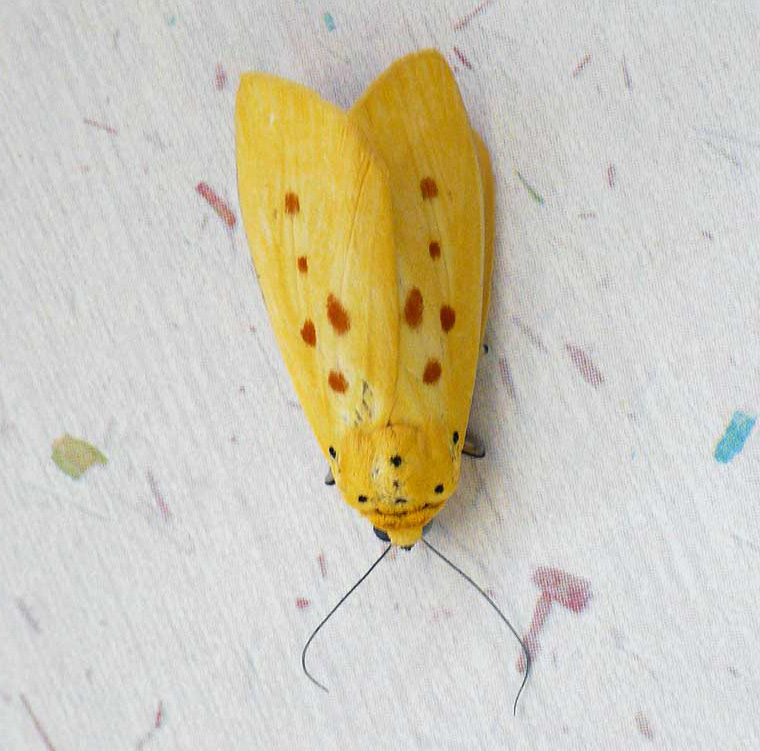Agape chloropyga: (226, 46, 536, 716)
moth: (228, 48, 538, 718)
